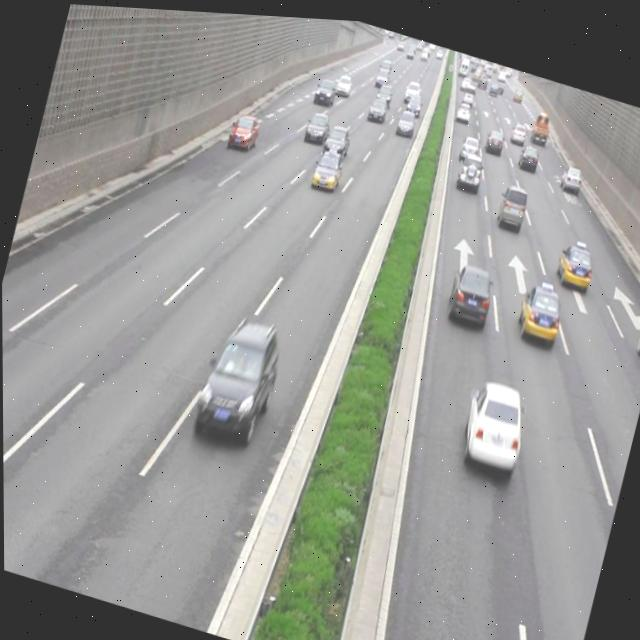car: (189, 307, 284, 449), (454, 368, 529, 470), (440, 254, 496, 327), (513, 271, 564, 342), (552, 231, 595, 285), (309, 141, 344, 193), (226, 108, 263, 152), (320, 116, 351, 157), (453, 144, 482, 185), (302, 104, 331, 139), (631, 295, 640, 358)
truck: (492, 170, 530, 229)
